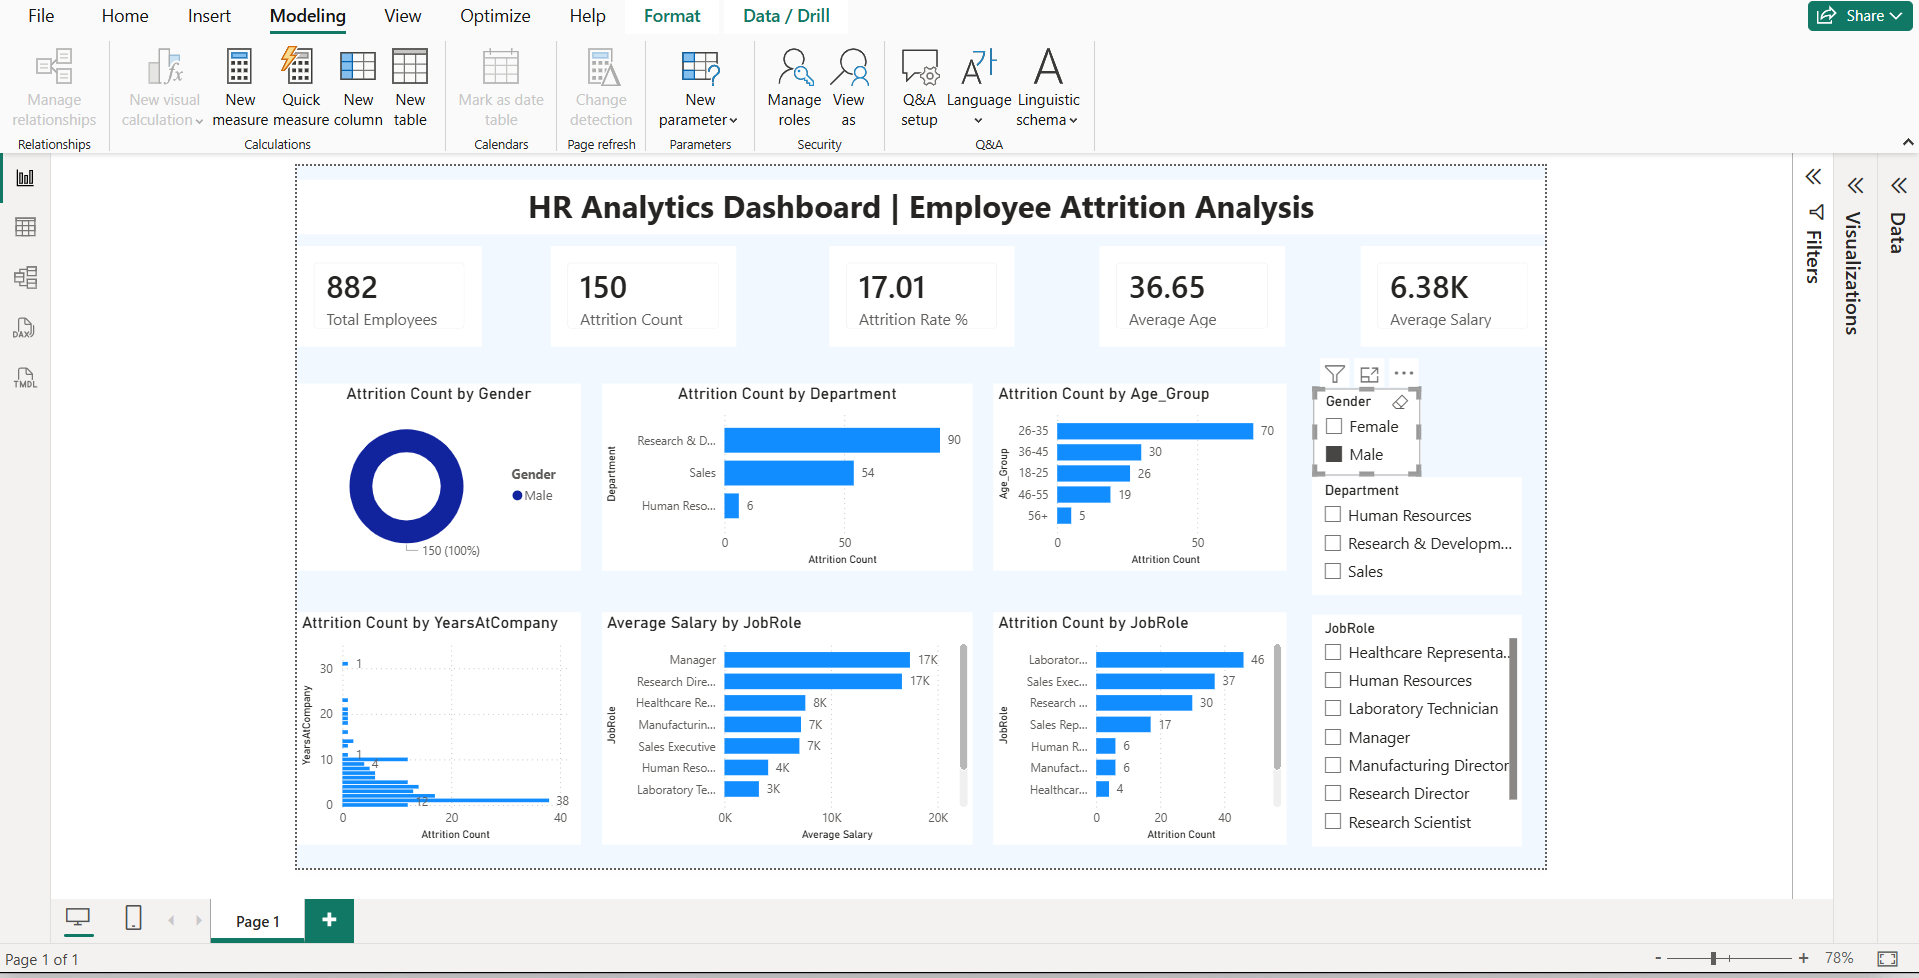

Layout of this report page (visuals, bound fields, positions):
{"tool":"powerbi","page":{"name":"Page 1","canvas":[1280,720],"ordinal":0},"visuals":[{"type":"cardVisual","fields":{"Data":["WA_Fn-UseC_-HR-Employee-Attrition.Total Employees"]},"box":[0,82.3,189.4,102.9],"z":0},{"type":"cardVisual","fields":{"Data":["WA_Fn-UseC_-HR-Employee-Attrition.Attrition Count"]},"box":[260.7,82.3,190.7,102.9],"z":1000},{"type":"cardVisual","fields":{"Data":["WA_Fn-UseC_-HR-Employee-Attrition.Attrition Rate"]},"box":[546.1,82.3,189.4,102.9],"z":2000},{"type":"cardVisual","fields":{"Data":["WA_Fn-UseC_-HR-Employee-Attrition.Average Salary"]},"box":[1090.9,82.3,189.4,102.9],"z":3000},{"type":"cardVisual","fields":{"Data":["WA_Fn-UseC_-HR-Employee-Attrition.Average Age"]},"box":[823.3,82.3,190.7,102.9],"z":4000},{"type":"clusteredBarChart","fields":{"Category":["WA_Fn-UseC_-HR-Employee-Attrition.Department"],"Y":["WA_Fn-UseC_-HR-Employee-Attrition.Attrition Count"]},"box":[312.9,223.7,380.1,192.1],"z":5000},{"type":"donutChart","fields":{"Category":["WA_Fn-UseC_-HR-Employee-Attrition.Gender"],"Y":["WA_Fn-UseC_-HR-Employee-Attrition.Attrition Count"]},"box":[0,223.7,290.9,192.1],"z":6000},{"type":"clusteredBarChart","fields":{"Category":["WA_Fn-UseC_-HR-Employee-Attrition.JobRole"],"Y":["WA_Fn-UseC_-HR-Employee-Attrition.Attrition Count"]},"box":[713.6,458.3,300.5,238.8],"z":7000},{"type":"clusteredBarChart","fields":{"Category":["WA_Fn-UseC_-HR-Employee-Attrition.JobRole"],"Y":["WA_Fn-UseC_-HR-Employee-Attrition.Average Salary"]},"box":[312.9,458.3,380.1,238.8],"z":8000},{"type":"clusteredBarChart","fields":{"Category":["WA_Fn-UseC_-HR-Employee-Attrition.YearsAtCompany"],"Y":["WA_Fn-UseC_-HR-Employee-Attrition.Attrition Count"]},"box":[0,458.3,290.9,238.8],"z":9000},{"type":"clusteredBarChart","fields":{"Category":["WA_Fn-UseC_-HR-Employee-Attrition.Age_Group"],"Y":["WA_Fn-UseC_-HR-Employee-Attrition.Attrition Count"]},"box":[713.6,223.7,300.5,192.1],"z":10000},{"type":"slicer","fields":{"Values":["WA_Fn-UseC_-HR-Employee-Attrition.Department"]},"box":[1041.5,319.7,215.4,120.8],"z":11000},{"type":"slicer","fields":{"Values":["WA_Fn-UseC_-HR-Employee-Attrition.Gender"]},"box":[1041.7,228.3,110,90],"z":12000},{"type":"slicer","fields":{"Values":["WA_Fn-UseC_-HR-Employee-Attrition.JobRole"]},"box":[1041.5,459.7,215.4,237.4],"z":13000},{"type":"textbox","box":[0,13.7,1280.3,56.3],"z":14000}]}

Visuals, with their boxes on the page's 1280x720 design canvas (x1, y1, x2, y2). These are canvas units, not pixel positions in the 1919x978 screenshot, which may show the page scaled, cropped or inside an application window:
cardVisual - WA_Fn-UseC_-HR-Employee-Attrition.Total Employees: 0,82,189,185
cardVisual - WA_Fn-UseC_-HR-Employee-Attrition.Attrition Count: 261,82,451,185
cardVisual - WA_Fn-UseC_-HR-Employee-Attrition.Attrition Rate: 546,82,736,185
cardVisual - WA_Fn-UseC_-HR-Employee-Attrition.Average Salary: 1091,82,1280,185
cardVisual - WA_Fn-UseC_-HR-Employee-Attrition.Average Age: 823,82,1014,185
clusteredBarChart - WA_Fn-UseC_-HR-Employee-Attrition.Department x WA_Fn-UseC_-HR-Employee-Attrition.Attrition Count: 313,224,693,416
donutChart - WA_Fn-UseC_-HR-Employee-Attrition.Gender x WA_Fn-UseC_-HR-Employee-Attrition.Attrition Count: 0,224,291,416
clusteredBarChart - WA_Fn-UseC_-HR-Employee-Attrition.JobRole x WA_Fn-UseC_-HR-Employee-Attrition.Attrition Count: 714,458,1014,697
clusteredBarChart - WA_Fn-UseC_-HR-Employee-Attrition.JobRole x WA_Fn-UseC_-HR-Employee-Attrition.Average Salary: 313,458,693,697
clusteredBarChart - WA_Fn-UseC_-HR-Employee-Attrition.YearsAtCompany x WA_Fn-UseC_-HR-Employee-Attrition.Attrition Count: 0,458,291,697
clusteredBarChart - WA_Fn-UseC_-HR-Employee-Attrition.Age_Group x WA_Fn-UseC_-HR-Employee-Attrition.Attrition Count: 714,224,1014,416
slicer - WA_Fn-UseC_-HR-Employee-Attrition.Department: 1042,320,1257,440
slicer - WA_Fn-UseC_-HR-Employee-Attrition.Gender: 1042,228,1152,318
slicer - WA_Fn-UseC_-HR-Employee-Attrition.JobRole: 1042,460,1257,697
textbox: 0,14,1280,70
